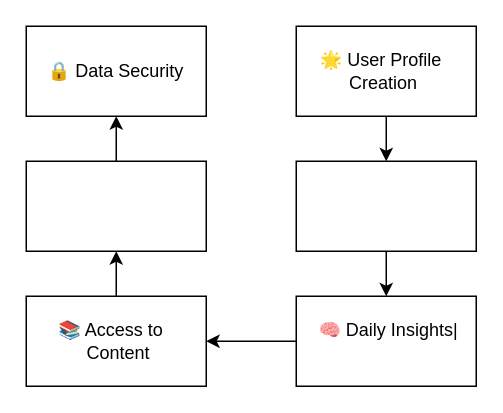
This 503x413 diagram has some shape labels left out. The shapes that lost their labels are listed below. From the top down, each one's centre as x and y in pixels, then its label:
At [115,205]: "🏆 Achieve Mastery".
At [385,205]: "🎓 Personalized Study Path".
